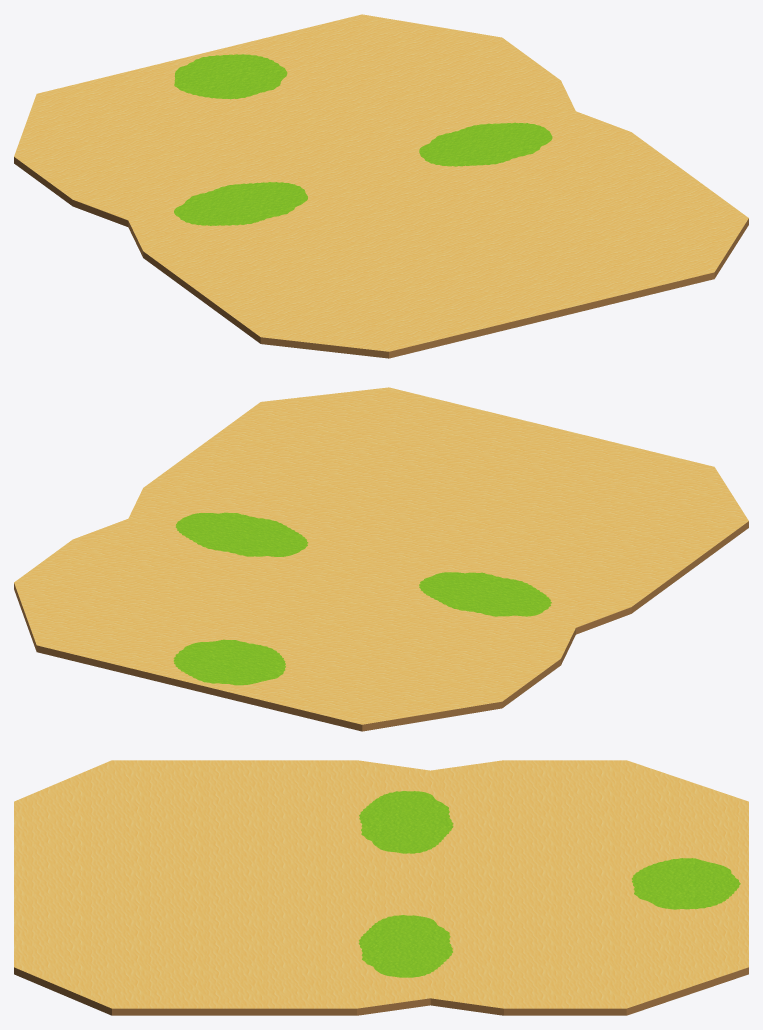
The model's file is surface-10-DNtJjdAt.glb.
The picture shows the model from 3 angles, top to bottom: view 1: azimuth 30°, elevation 25°; view 2: azimuth 150°, elevation 25°; view 3: azimuth 270°, elevation 25°; orthographic projection. The views are drawn at different scales.
Parts seen in each view (by area): view 1: FLC_Surface_10, FLC_Regions_10; view 2: FLC_Surface_10, FLC_Regions_10; view 3: FLC_Surface_10, FLC_Regions_10.
Boxes of the visible parts, left/top/right/bottom form: FLC_Surface_10: left=14, top=14, right=748, bottom=358; FLC_Regions_10: left=174, top=54, right=552, bottom=225; FLC_Surface_10: left=14, top=387, right=748, bottom=731; FLC_Regions_10: left=173, top=512, right=551, bottom=685; FLC_Surface_10: left=14, top=760, right=748, bottom=1015; FLC_Regions_10: left=358, top=791, right=740, bottom=977.
Bounding box in the file's own units: 24 × 0.324 × 30.
Materials: 3 (2 with a texture image).
